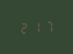one: (31, 20, 42, 33)
seven: (43, 19, 54, 33)
two: (18, 20, 29, 34)
